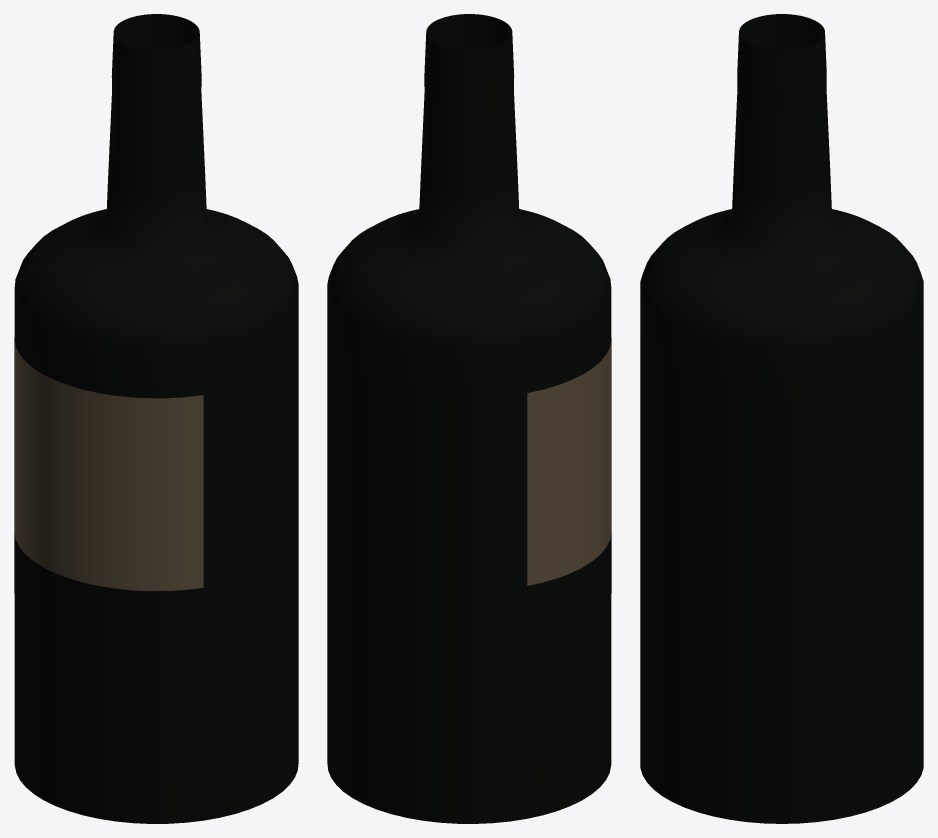
Rendered from Bouteille_Vin.fbx.
3 renders of one model, left to right at view 1: azimuth 30°, elevation 25°; view 2: azimuth 150°, elevation 25°; view 3: azimuth 270°, elevation 25°, orthographic.
Visible parts, largest first — view 1: pCylinder3; view 2: pCylinder3; view 3: pCylinder3.
Part boxes in pixels (<box>): pCylinder3: <box>14,14,298,823</box>; pCylinder3: <box>327,14,611,823</box>; pCylinder3: <box>640,14,923,823</box>.
Bounding box in the file's own units: 5.51 × 15.64 × 5.49.
